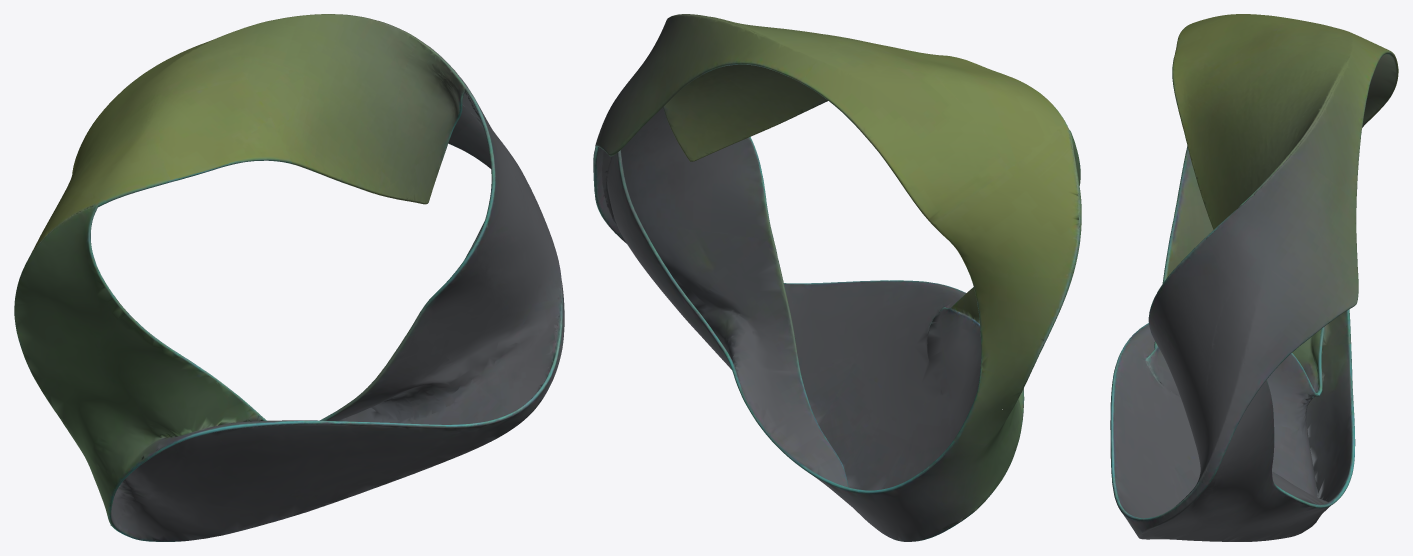
Rendered from context-ribbon.glb.
The picture shows the model from 3 angles, left to right: view 1: azimuth 30°, elevation 25°; view 2: azimuth 150°, elevation 25°; view 3: azimuth 270°, elevation 25°; orthographic projection. The views are drawn at different scales.
Parts seen in each view (by area): view 1: tripo_node_2b1b159d-a1e1-4693-b8b0-10ba2eed3dac; view 2: tripo_node_2b1b159d-a1e1-4693-b8b0-10ba2eed3dac; view 3: tripo_node_2b1b159d-a1e1-4693-b8b0-10ba2eed3dac.
Boxes of the visible parts, x1,y1,x2,y2 form: tripo_node_2b1b159d-a1e1-4693-b8b0-10ba2eed3dac: (14,14,564,541); tripo_node_2b1b159d-a1e1-4693-b8b0-10ba2eed3dac: (593,14,1081,541); tripo_node_2b1b159d-a1e1-4693-b8b0-10ba2eed3dac: (1110,14,1398,541).
Size of the model in its own units: 0.9804 by 0.8903 by 0.4475.
Materials: 1 (1 with a texture image).
